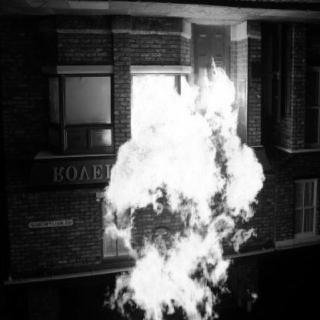Fire: (95, 58, 267, 318)
